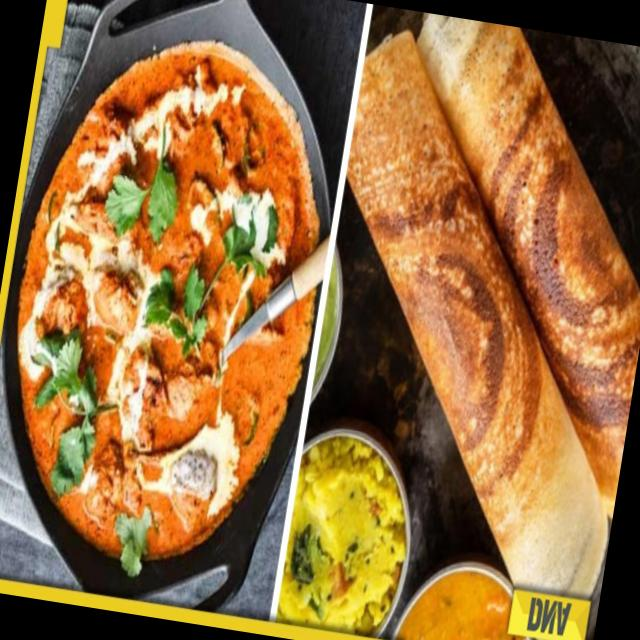chicken: (15, 67, 326, 524)
